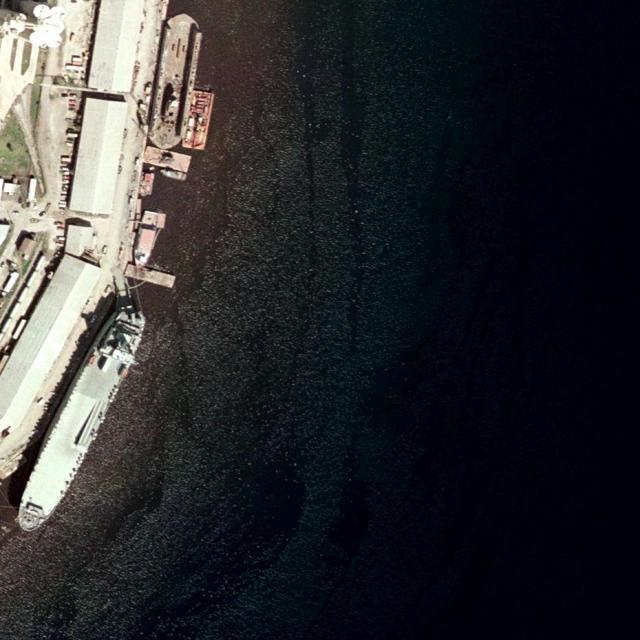Cargo: (3, 298, 156, 542)
Other Ship: (130, 208, 169, 270), (161, 169, 186, 180)
